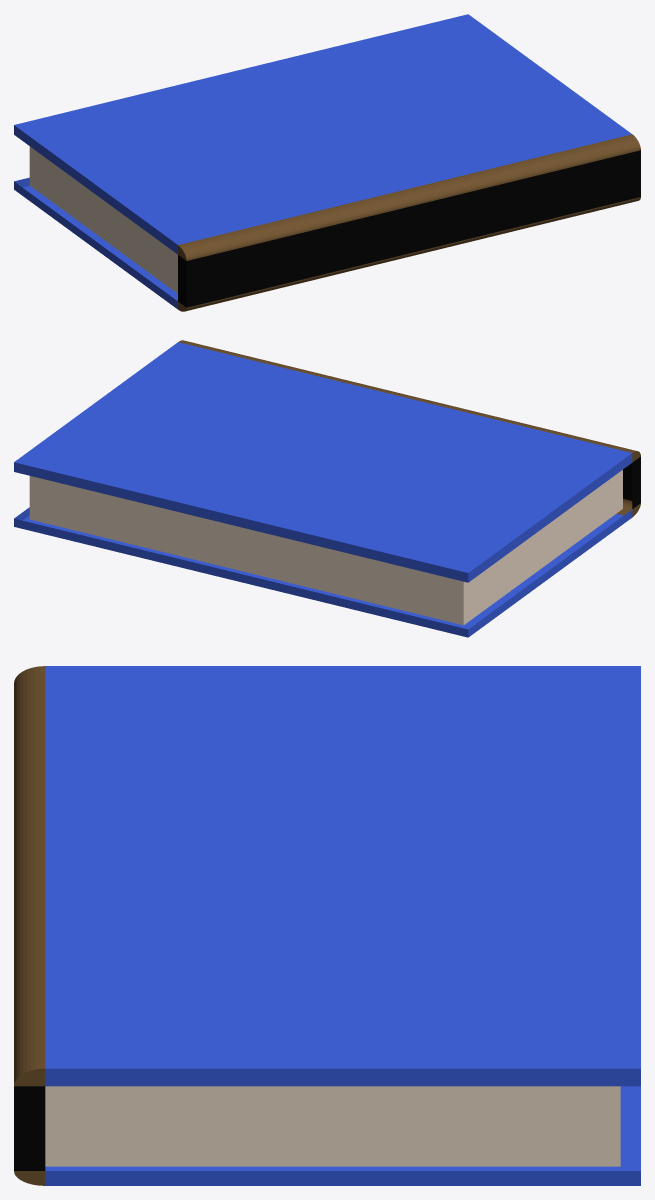
File: bluebook.dae
3 views of the same model, one above another, from view 1: azimuth 30°, elevation 25°; view 2: azimuth 150°, elevation 25°; view 3: azimuth 270°, elevation 25° (orthographic). The views are drawn at different scales.
Parts seen in each view (by area): view 1: Cube, Cube.001; view 2: Cube, Cube.001; view 3: Cube, Cube.001.
Boxes of the visible parts, left/top/right/bottom form: Cube: left=14, top=14, right=640, bottom=311; Cube.001: left=29, top=146, right=177, bottom=293; Cube: left=14, top=340, right=640, bottom=637; Cube.001: left=29, top=470, right=622, bottom=625; Cube: left=14, top=666, right=640, bottom=1185; Cube.001: left=45, top=1086, right=620, bottom=1166.
Size of the model in its own units: 14.72 by 9.69 by 2.
